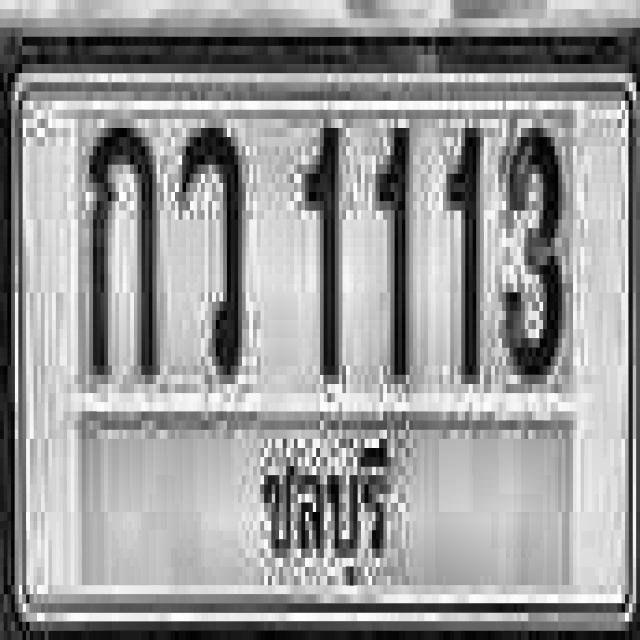license-plate: (3, 55, 640, 640)
